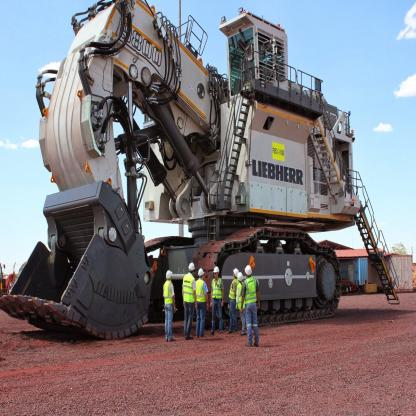excavator: (1, 1, 411, 357)
person: (237, 259, 260, 348), (158, 265, 178, 344), (182, 260, 196, 346), (209, 262, 224, 336), (194, 265, 208, 341), (228, 267, 238, 335)
